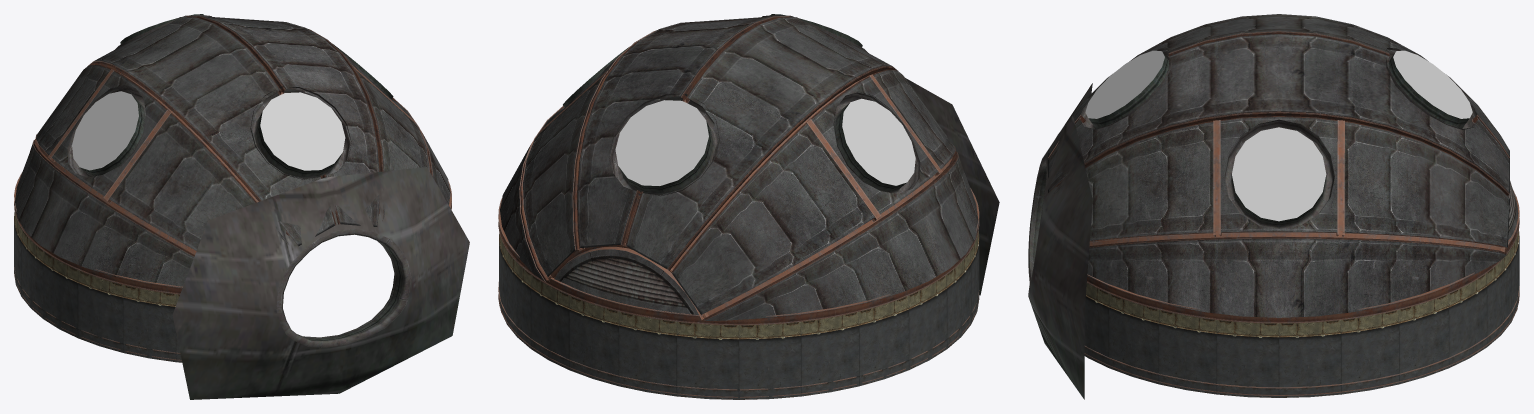
File: 01_01_monitoring_dome.dae
3 views of the same model, side by side, from view 1: azimuth 30°, elevation 25°; view 2: azimuth 150°, elevation 25°; view 3: azimuth 270°, elevation 25° (orthographic). The views are drawn at different scales.
Visible parts, largest first — view 1: top_plates_low_windows, polySurface53, polySurface46, polySurface51, polySurface112; view 2: top_plates_low_windows, polySurface46, polySurface112, polySurface51, polySurface53; view 3: top_plates_low_windows, polySurface46, polySurface53, polySurface112, polySurface51.
Part boxes in pixels (x1,y1,x2,y2): top_plates_low_windows: (14, 16, 450, 288); polySurface53: (67, 14, 469, 399); polySurface46: (14, 156, 182, 362); polySurface51: (72, 91, 345, 170); polySurface112: (14, 15, 451, 360); top_plates_low_windows: (500, 16, 978, 320); polySurface46: (499, 187, 979, 399); polySurface112: (498, 15, 979, 397); polySurface51: (615, 98, 915, 185); polySurface53: (560, 14, 999, 295); top_plates_low_windows: (1048, 14, 1518, 317); polySurface46: (1084, 230, 1519, 397); polySurface53: (1028, 31, 1479, 399); polySurface112: (1048, 31, 1519, 395); polySurface51: (1085, 50, 1472, 221).
Size of the model in its own units: 12.18 by 8.56 by 12.27.
